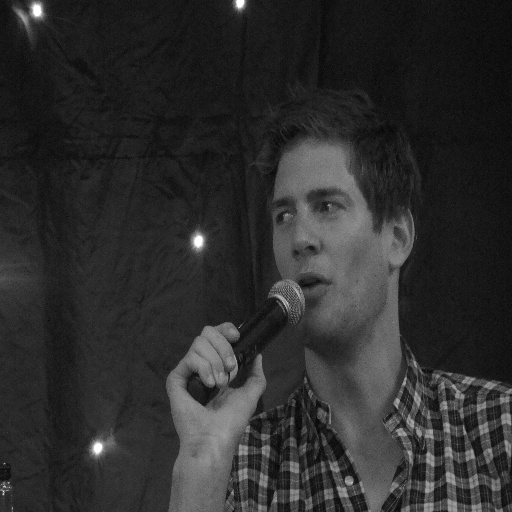hand: (164, 313, 261, 484)
